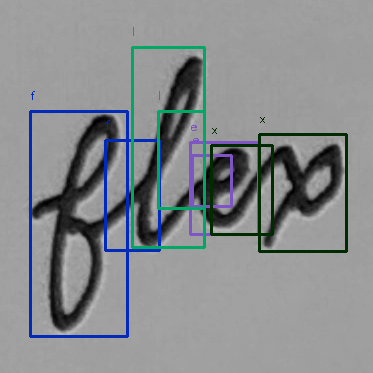e: (194, 143, 258, 232)
f: (27, 110, 125, 339)
l: (133, 51, 206, 249)
x: (261, 136, 347, 255)
